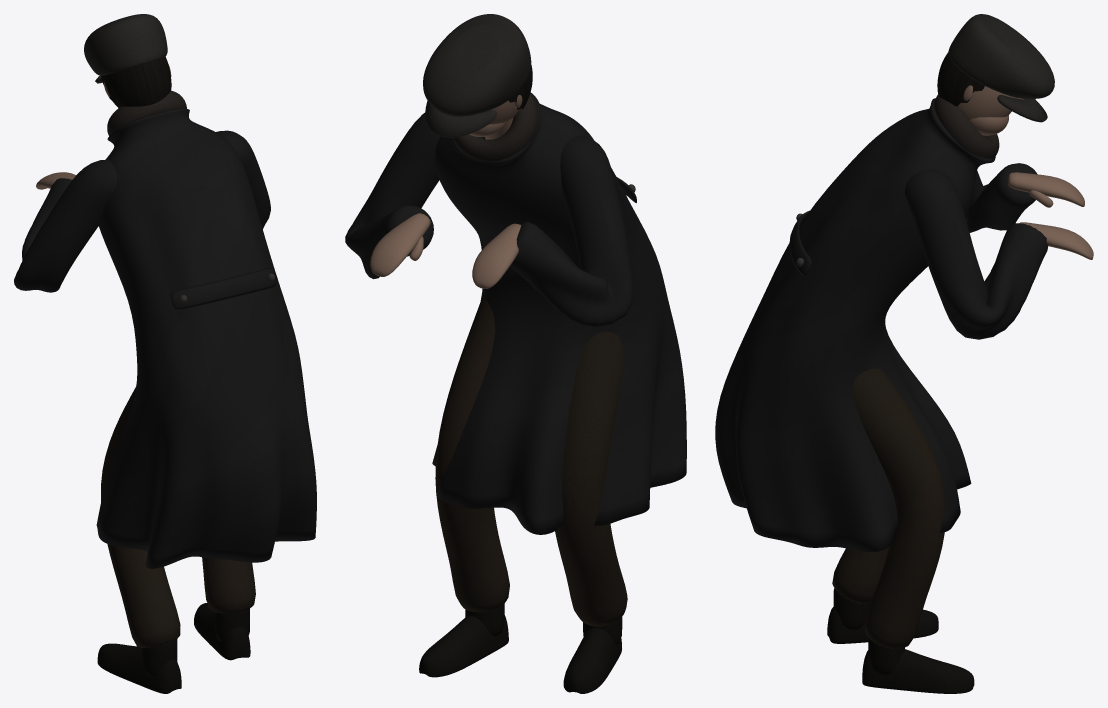
Rendered from worker-stooped-to-brazier.glb.
3 views of the same model, side by side, from view 1: azimuth 30°, elevation 25°; view 2: azimuth 150°, elevation 25°; view 3: azimuth 270°, elevation 25° (orthographic). The views are drawn at different scales.
Visible parts, largest first — view 1: worker-stooped-to-brazier-body; view 2: worker-stooped-to-brazier-body; view 3: worker-stooped-to-brazier-body.
Part boxes in pixels (x1,y1,x2,y2): worker-stooped-to-brazier-body: (14, 14, 316, 693); worker-stooped-to-brazier-body: (345, 14, 686, 693); worker-stooped-to-brazier-body: (715, 14, 1093, 693).
Bounding box in the file's own units: 0.663 × 1.54 × 0.8326.
8 materials, 6 textured.
